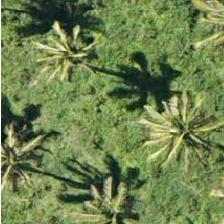Kelapa_Sawit: (22, 13, 112, 103), (142, 76, 224, 166), (73, 171, 163, 224)
